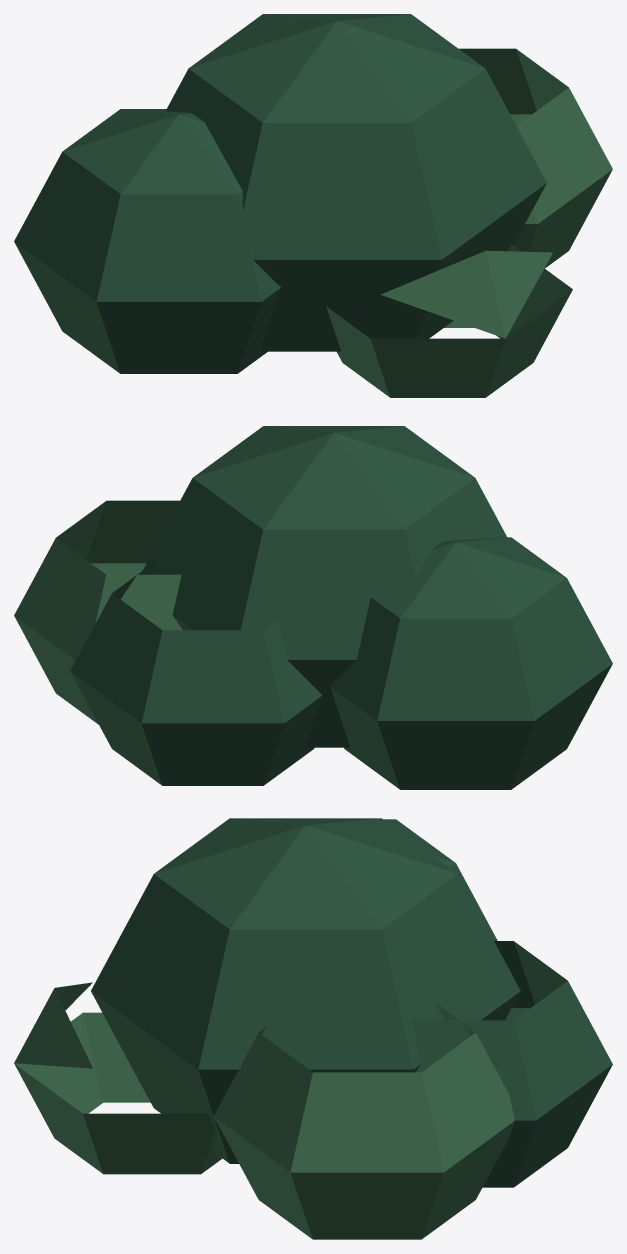
Rendered from nature_bush_c_lod1.glb.
3 views of the same model, one above another, from view 1: azimuth 30°, elevation 25°; view 2: azimuth 150°, elevation 25°; view 3: azimuth 270°, elevation 25° (orthographic). The views are drawn at different scales.
Parts seen in each view (by area): view 1: nature_bush_c_lod1; view 2: nature_bush_c_lod1; view 3: nature_bush_c_lod1.
Boxes of the visible parts, bbox=[...] form: nature_bush_c_lod1: bbox=[14, 14, 612, 397]; nature_bush_c_lod1: bbox=[14, 426, 612, 789]; nature_bush_c_lod1: bbox=[14, 818, 612, 1239].
Bounding box in the file's own units: 2.06 × 1.19 × 1.95.
